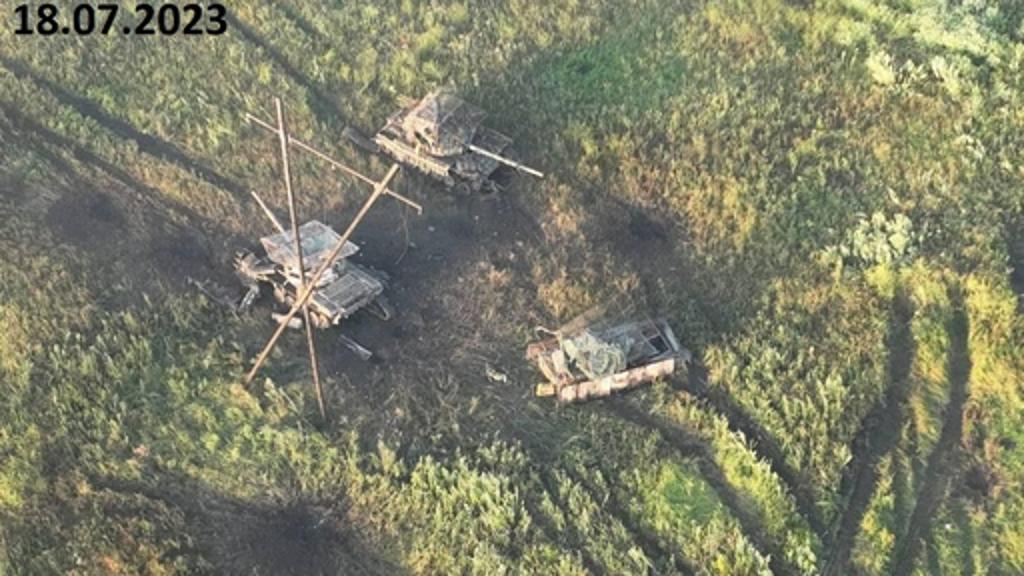APC-IFV: (530, 306, 690, 406)
TANK: (230, 182, 386, 332), (366, 88, 550, 196)
